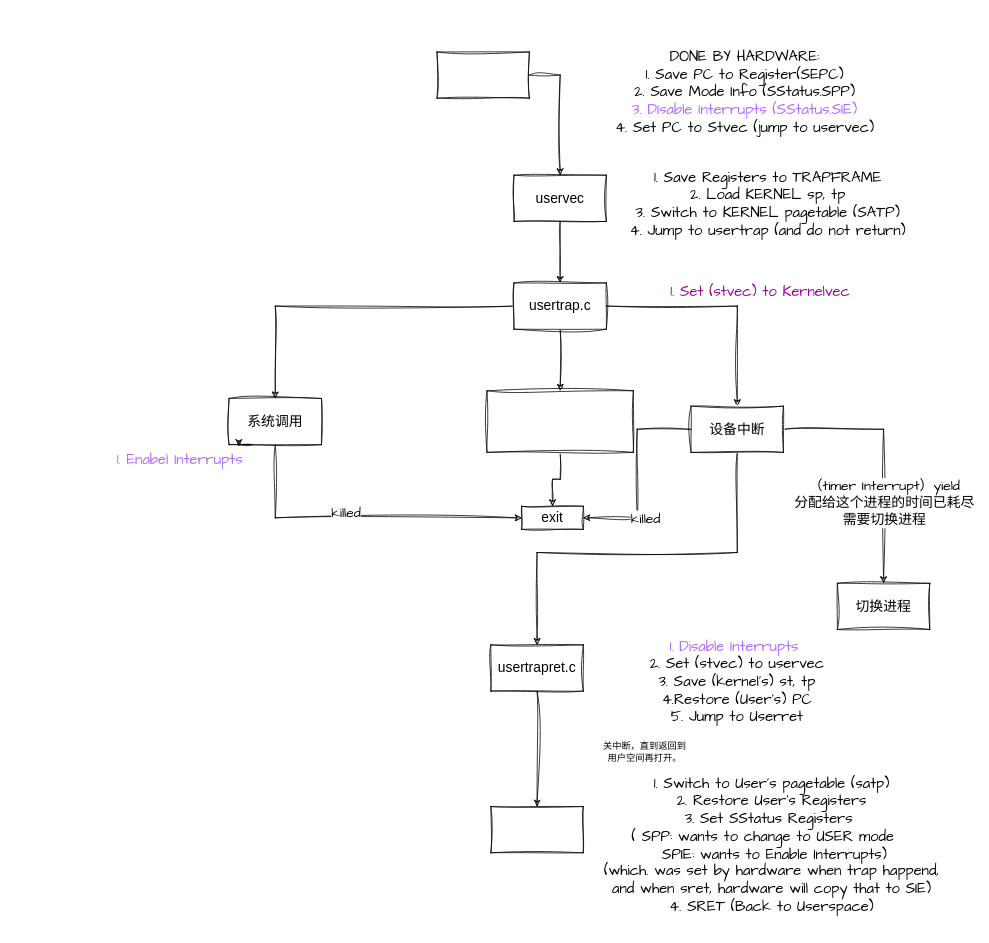
This 989x943 diagram has some shape labels left out. Here are the shapes that lost their labels. From the top down, the centre of each, then its label:
At (482,74): "Traps".
At (559,421): "（错误） 打印信息 标记进程为killed".
At (536,829): "usertet (Trampoline.S )".
